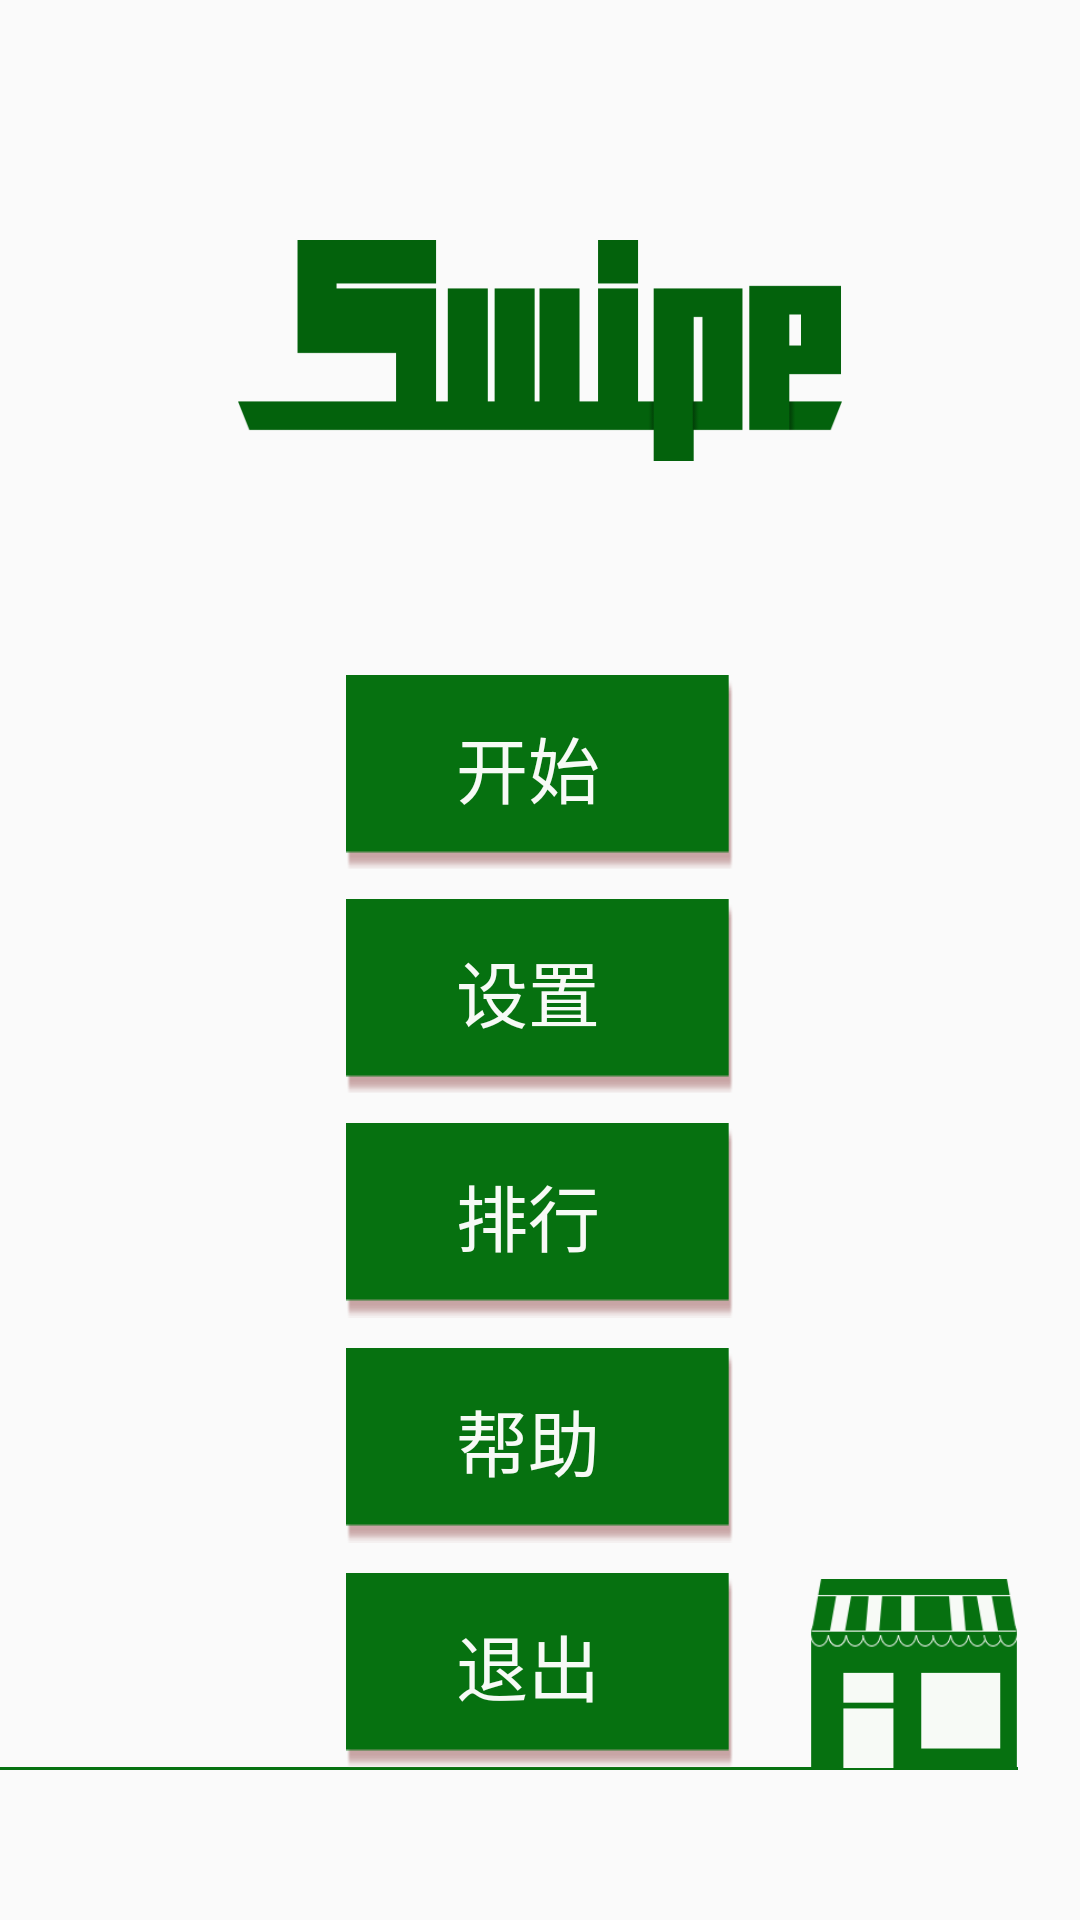

Point at icon controls on the screen. Image size 1080*1920, points as [x,y].
store: [914,1673]
